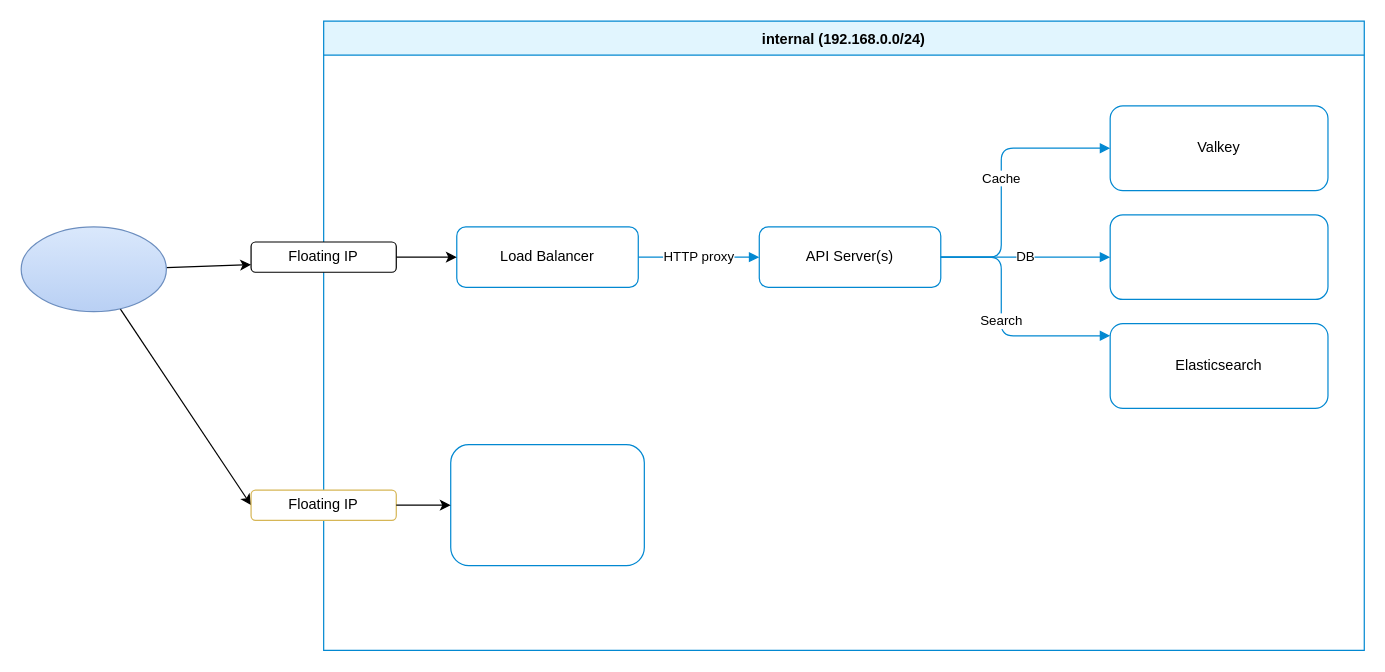
This 1385x672 diagram has some shape labels left out. Here are the shapes that lost their labels. From the top down, the box of each, then its label:
(20, 226, 166, 312): Internet
(1109, 214, 1328, 299): Postgres
(450, 443, 644, 566): Monitoring (SSH proxy jump, prometheus, grafana)
